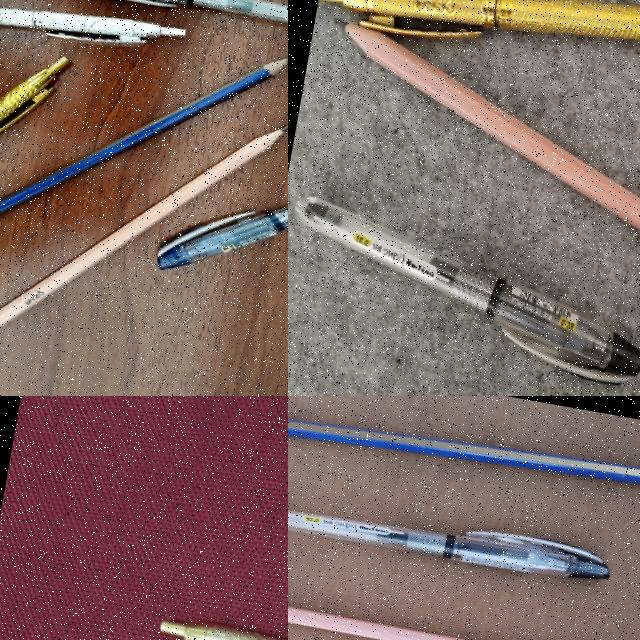pen: (288, 192, 640, 378), (288, 488, 613, 588), (162, 117, 288, 312), (58, 0, 288, 43)
pencil: (346, 24, 640, 230), (0, 127, 285, 326), (0, 58, 288, 213), (288, 396, 640, 497), (288, 593, 640, 640)
signature pen: (317, 0, 640, 73), (0, 27, 68, 252), (0, 0, 183, 61), (160, 621, 282, 639)
